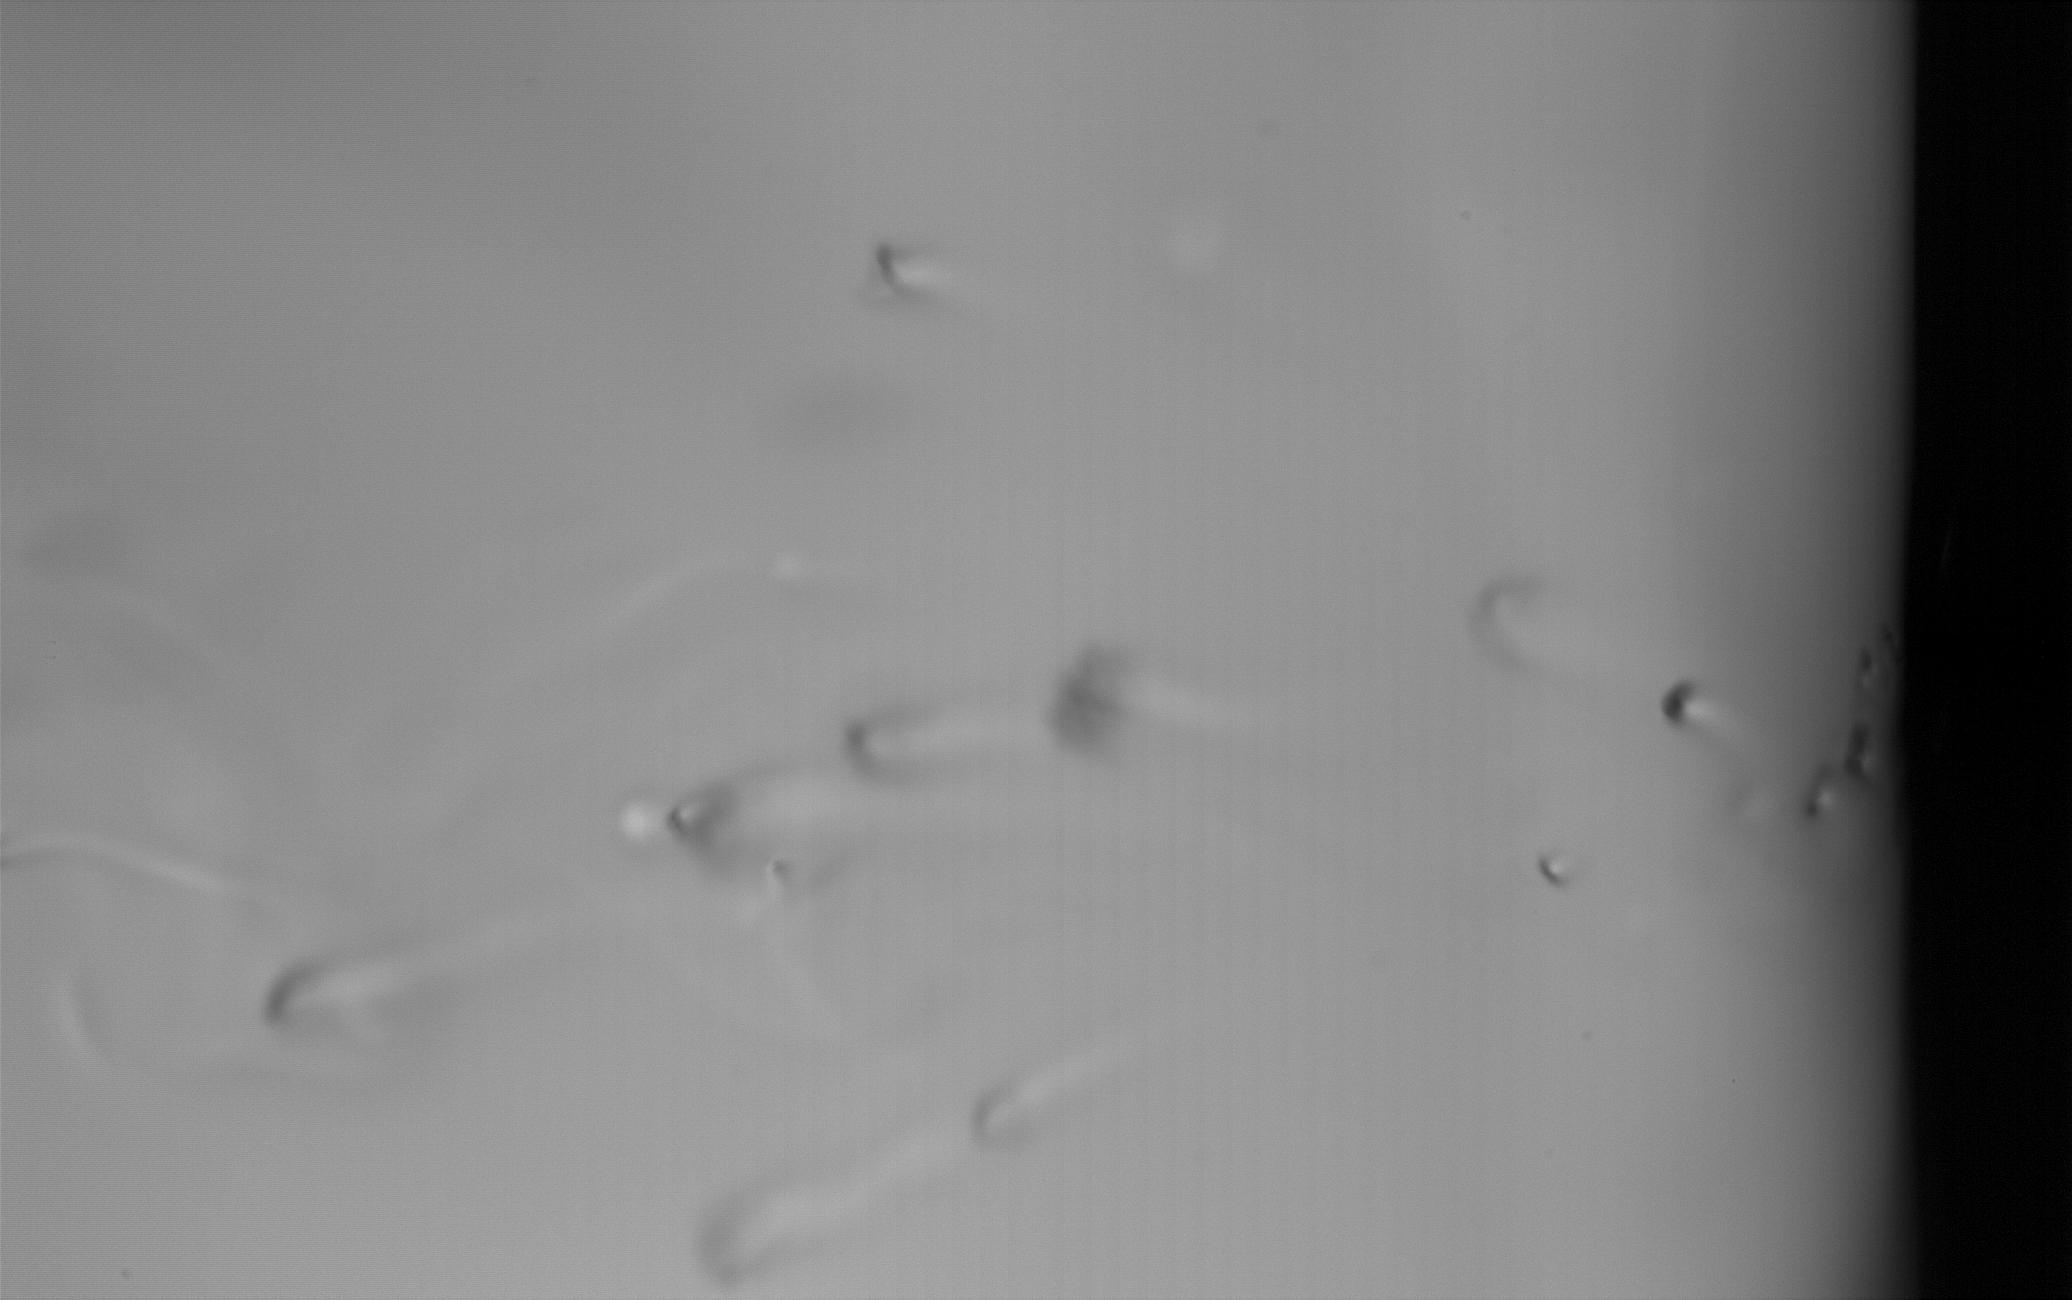Blurry: (699, 1170, 789, 1290), (666, 773, 758, 881), (841, 699, 927, 798), (1051, 641, 1118, 756), (1475, 575, 1545, 672), (865, 232, 924, 313), (1529, 843, 1582, 905), (1653, 666, 1695, 738)
DiffusiveMixing: (262, 962, 344, 1048)
